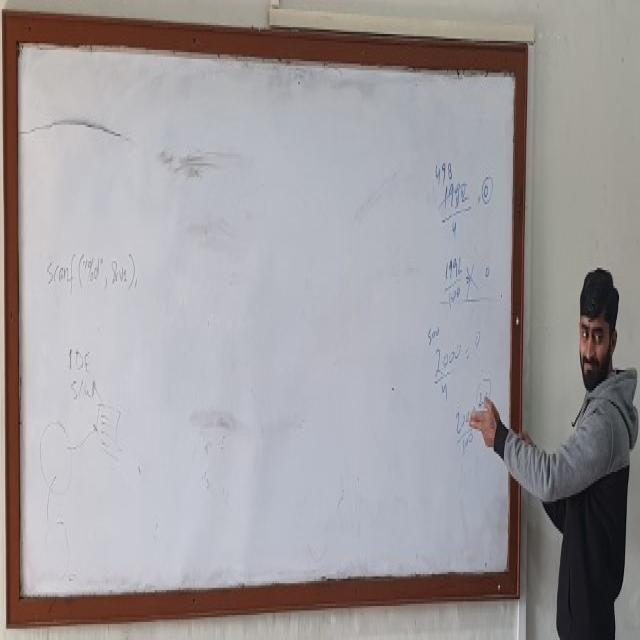Instructor: (526, 243, 634, 630)
White-board: (11, 18, 520, 614)
